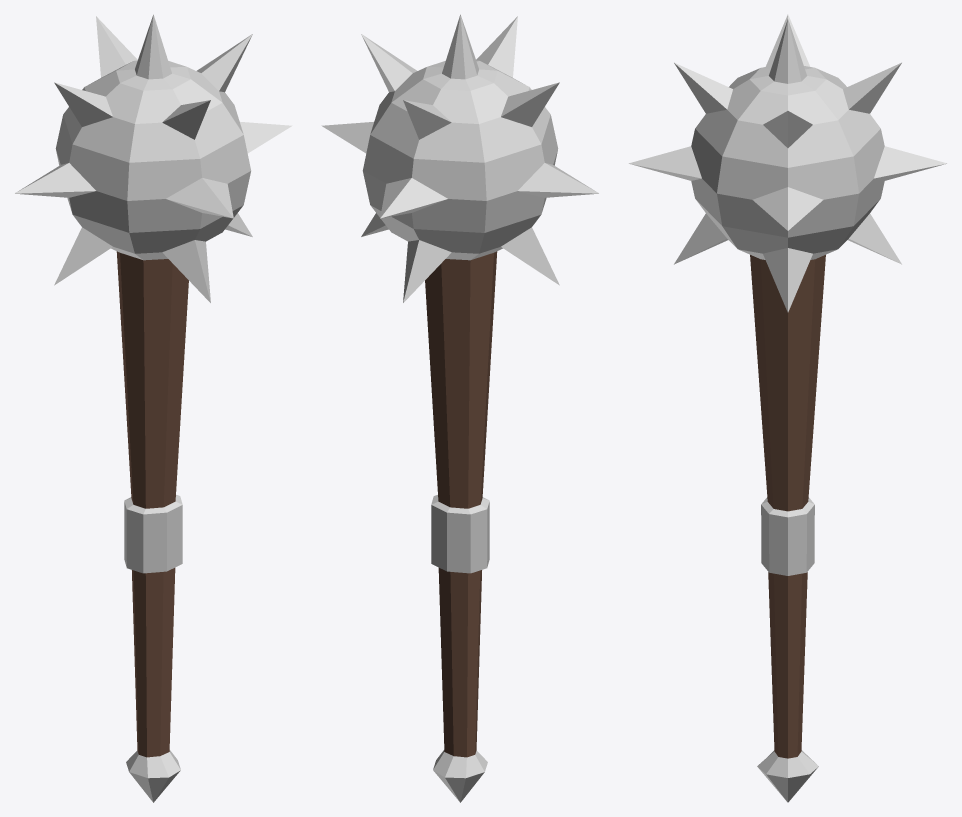
Rendered from mace.fbx.
3 renders of one model, left to right at view 1: azimuth 30°, elevation 25°; view 2: azimuth 150°, elevation 25°; view 3: azimuth 270°, elevation 25°, orthographic.
Visible parts, largest first — view 1: mace; view 2: mace; view 3: mace.
Boxes of the visible parts, box(x1,y1,x2,y2) form: mace: box(15, 14, 292, 802); mace: box(321, 14, 598, 802); mace: box(628, 14, 947, 802).
Size of the model in its own units: 54.42 by 147 by 54.42.
